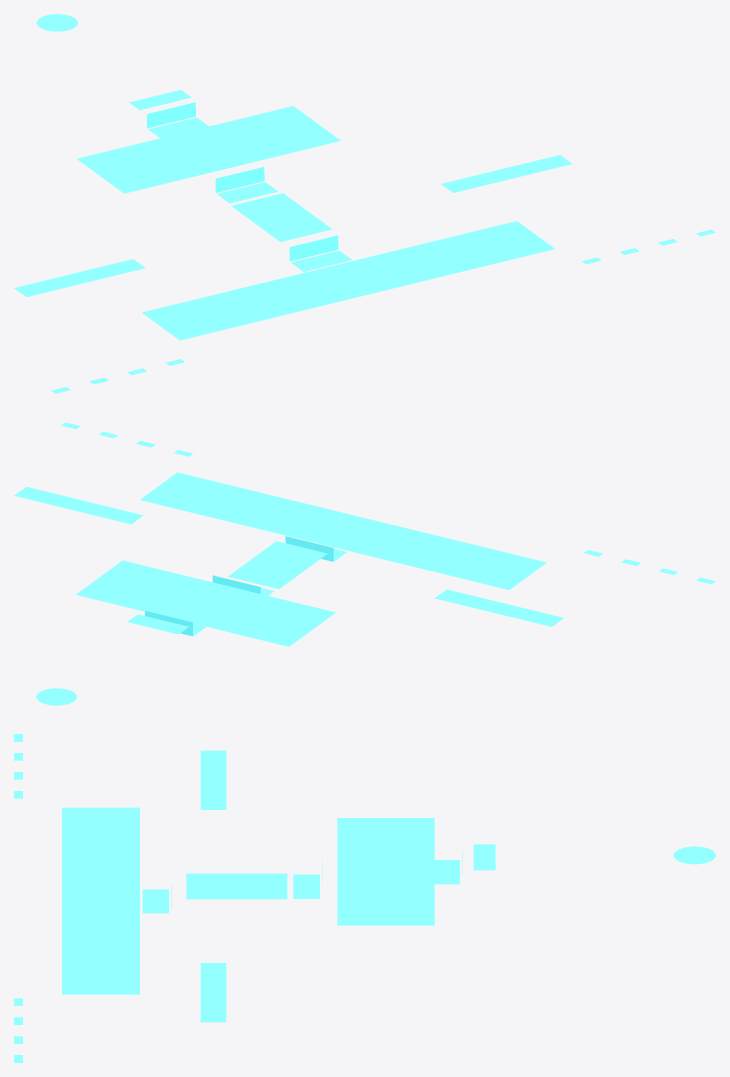
File: E7-7_Agua.fbx
3 renders of one model, top to bottom at view 1: azimuth 30°, elevation 25°; view 2: azimuth 150°, elevation 25°; view 3: azimuth 270°, elevation 25°, orthographic. The views are drawn at different scales.
Parts seen in each view (by area): view 1: E7-7_Agua; view 2: E7-7_Agua; view 3: E7-7_Agua.
Boxes of the visible parts, bbox=[...] form: E7-7_Agua: bbox=[14, 14, 715, 393]; E7-7_Agua: bbox=[14, 422, 715, 705]; E7-7_Agua: bbox=[14, 734, 715, 1062].
Bounding box in the file's own units: 217 × 14.12 × 195.
